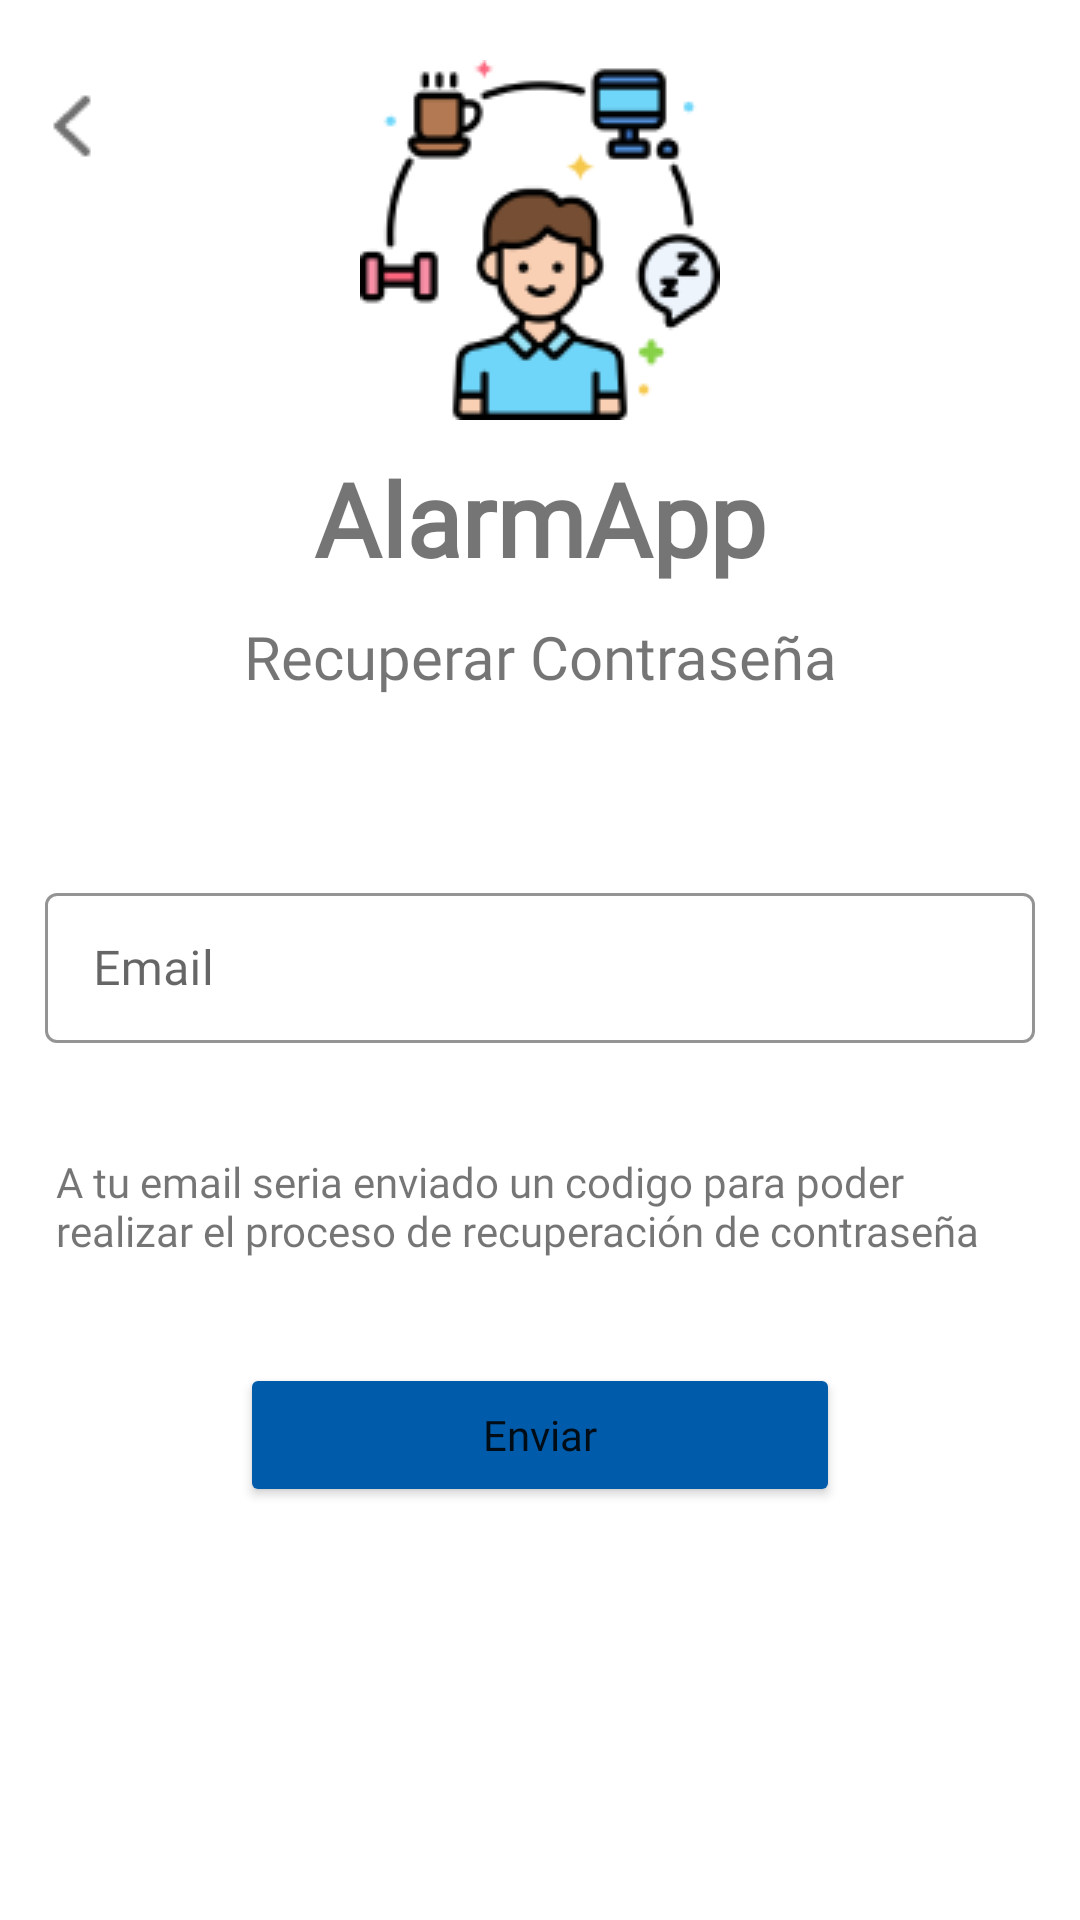

Screen size 1080px x 1920px. Icon name, then its center in pixels as (x=x, y=y):
back: (x=72, y=126)
